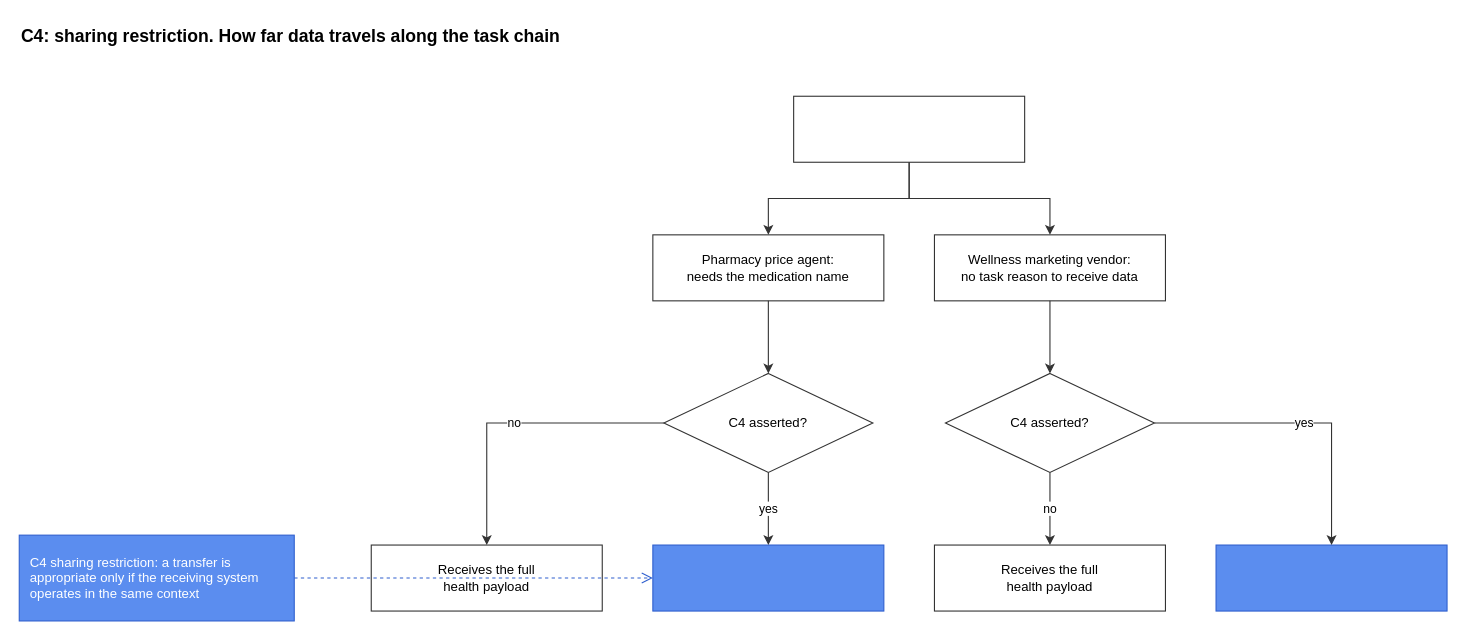
The diagram is 1466 pixels wide and 640 high, and some of its shapes have lost their labels. The shapes that lost their labels are listed below. From the top down, each one's centre as x and y in pixels, then its label:
At point 909,128: "Task delegates to sub-agents".
At point 768,577: "Receives the medication field only".
At point 1331,577: "Refused: the chain ends where necessity ends".
